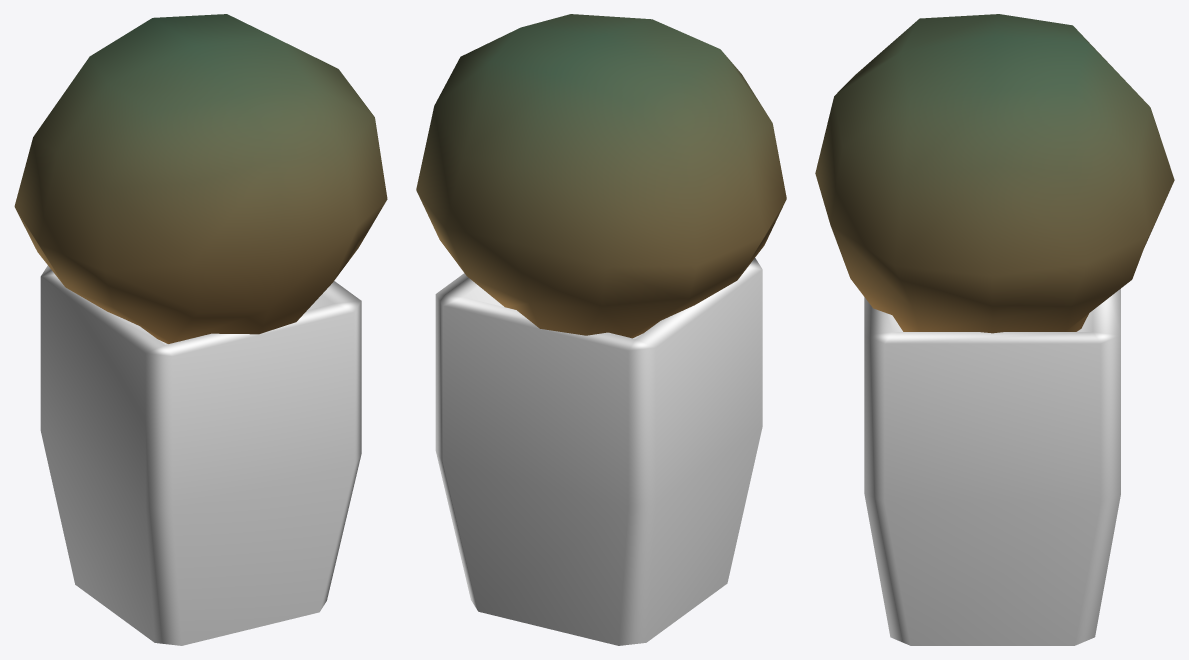
The model's file is prop_015.fbx.
3 renders of one model, left to right at view 1: azimuth 30°, elevation 25°; view 2: azimuth 150°, elevation 25°; view 3: azimuth 270°, elevation 25°, orthographic. The views are drawn at different scales.
Visible parts, largest first — view 1: prop_015; view 2: prop_015; view 3: prop_015.
Boxes of the visible parts, <box> form: prop_015: <box>14,14,387,645</box>; prop_015: <box>416,14,786,645</box>; prop_015: <box>815,14,1174,645</box>.
Bounding box in the file's own units: 25.19 × 23.84 × 41.22.
